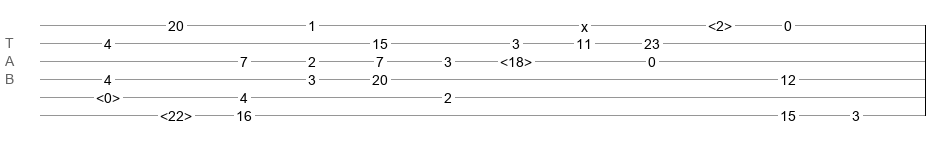0: (648, 54, 656, 64), (784, 18, 792, 28)
1: (308, 18, 316, 28)
11: (576, 36, 592, 46)
12: (780, 72, 796, 82)
15: (372, 36, 388, 46), (780, 108, 796, 118)
16: (236, 108, 252, 118)
2: (308, 54, 316, 64), (444, 90, 452, 100)
20: (168, 18, 184, 28), (372, 72, 388, 82)
23: (644, 36, 660, 46)
3: (308, 72, 316, 82), (444, 54, 452, 64), (512, 36, 520, 46), (852, 108, 860, 118)
4: (104, 36, 112, 46), (104, 72, 112, 82), (240, 90, 248, 100)
7: (240, 54, 248, 64), (376, 54, 384, 64)
harmonic: (160, 108, 192, 118), (500, 54, 532, 64), (96, 90, 120, 100), (708, 18, 732, 28)
x: (581, 19, 588, 27)
